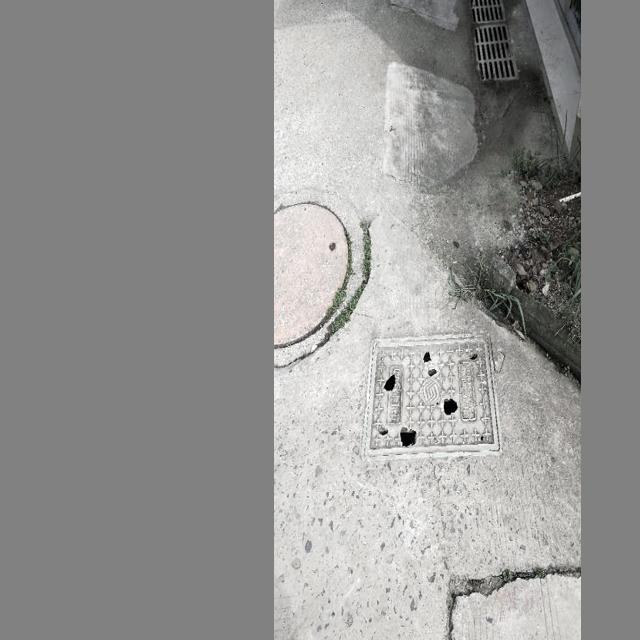broke: (362, 334, 501, 459)
